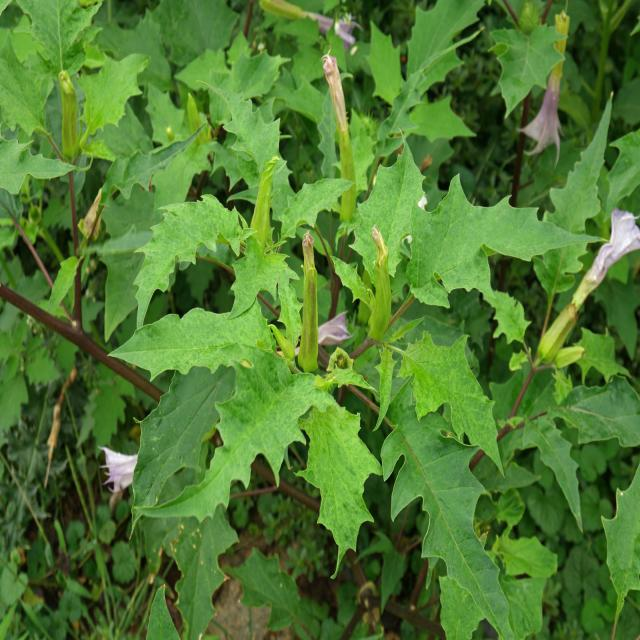Poisonous-Datura_Stramonium: (128, 32, 640, 640)
